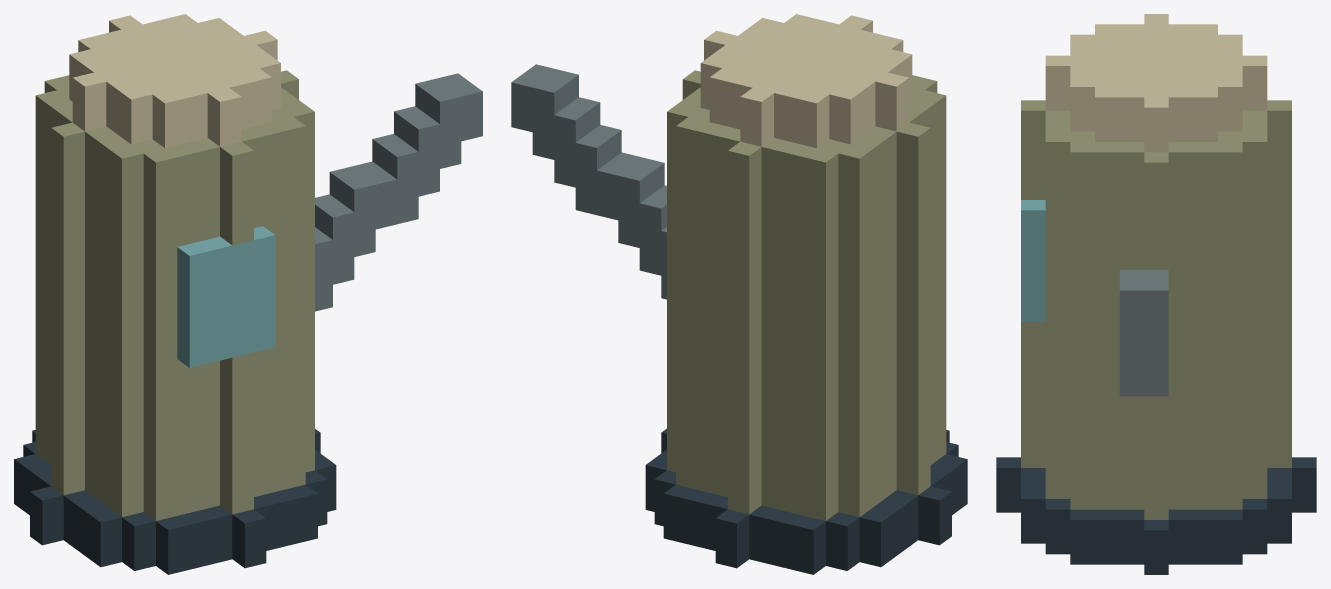
Rendered from chemistry-17.glb.
3 renders of one model, left to right at view 1: azimuth 30°, elevation 25°; view 2: azimuth 150°, elevation 25°; view 3: azimuth 270°, elevation 25°, orthographic.
Parts seen in each view (by area): view 1: Safety shower; view 2: Safety shower; view 3: Safety shower.
Boxes of the visible parts, x1,y1,x2,y2 form: Safety shower: (14,14,482,574); Safety shower: (511,14,967,574); Safety shower: (996,14,1316,574).
Bounding box in the file's own units: 1.6 × 1.6 × 1.04.
